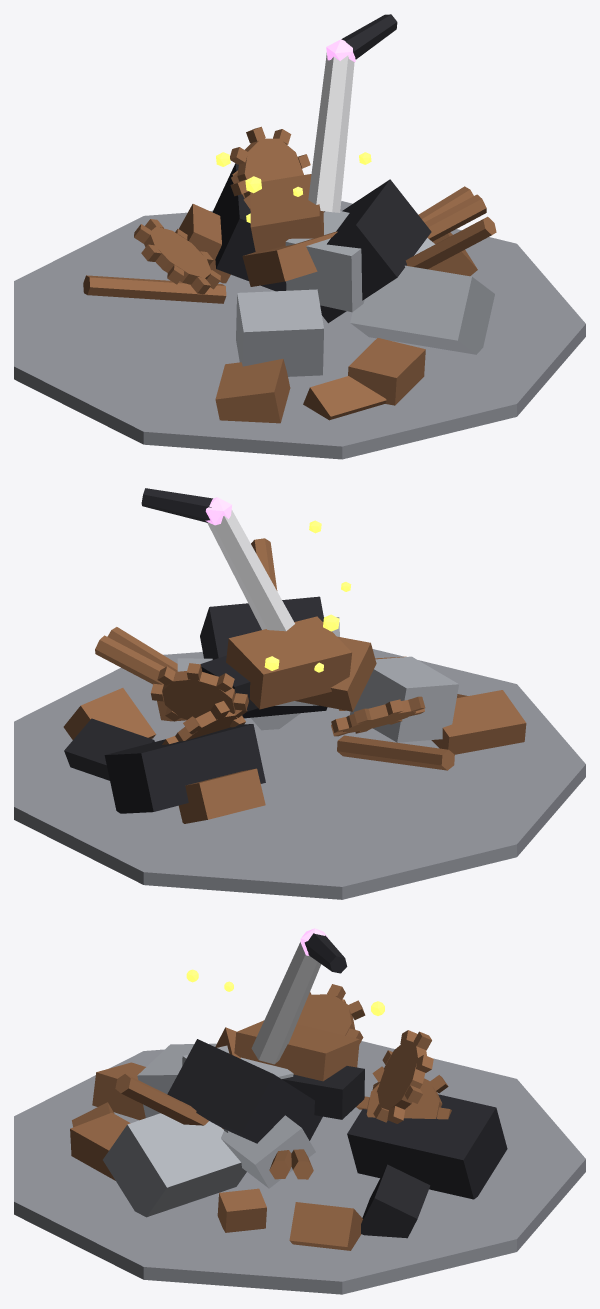
Rendered from Resource_ScrapHeap.fbx.
3 renders of one model, top to bottom at view 1: azimuth 30°, elevation 25°; view 2: azimuth 150°, elevation 25°; view 3: azimuth 270°, elevation 25°, orthographic.
Parts seen in each view (by area): view 1: Scrap_Ground, Scrap_Chunk13, Scrap_Chunk12, Scrap_Chunk16, Scrap_BotArmA, Scrap_Chunk9, Scrap_Chunk8, Scrap_Chunk11, Scrap_Chunk5, Scrap_Chunk7, Scrap_Pipe1, Scrap_Chunk3 (+9 smaller); view 2: Scrap_Ground, Scrap_Chunk7, Scrap_Chunk9, Scrap_Chunk12, Scrap_Chunk8, Scrap_BotArmA, Scrap_Chunk16, Scrap_Chunk15, Scrap_Chunk17, Scrap_Pipe1, Scrap_Chunk0, Scrap_Gear2 (+8 smaller); view 3: Scrap_Ground, Scrap_Chunk7, Scrap_Chunk13, Scrap_Chunk16, Scrap_Chunk9, Scrap_BotArmA, Scrap_Chunk17, Scrap_Chunk0, Scrap_Chunk10, Scrap_Chunk1, Scrap_Gear2, Scrap_Chunk5 (+10 smaller).
Part boxes in pixels (bbox=[...]): Scrap_Ground: bbox=[14, 201, 585, 459]; Scrap_Chunk13: bbox=[350, 265, 494, 354]; Scrap_Chunk12: bbox=[236, 289, 323, 376]; Scrap_Chunk16: bbox=[320, 179, 431, 323]; Scrap_BotArmA: bbox=[308, 53, 354, 212]; Scrap_Chunk9: bbox=[250, 174, 324, 253]; Scrap_Chunk8: bbox=[215, 359, 290, 423]; Scrap_Chunk11: bbox=[285, 211, 364, 312]; Scrap_Chunk5: bbox=[348, 338, 425, 405]; Scrap_Chunk7: bbox=[212, 163, 286, 291]; Scrap_Pipe1: bbox=[83, 275, 226, 303]; Scrap_Chunk3: bbox=[242, 231, 337, 286]; Scrap_Ground: bbox=[14, 649, 585, 899]; Scrap_Chunk7: bbox=[104, 724, 265, 813]; Scrap_Chunk9: bbox=[226, 616, 352, 709]; Scrap_Chunk12: bbox=[350, 656, 458, 742]; Scrap_Chunk8: bbox=[431, 690, 526, 754]; Scrap_BotArmA: bbox=[207, 510, 294, 631]; Scrap_Chunk16: bbox=[200, 596, 327, 718]; Scrap_Chunk15: bbox=[179, 768, 265, 823]; Scrap_Chunk17: bbox=[64, 718, 154, 780]; Scrap_Pipe1: bbox=[337, 735, 454, 770]; Scrap_Chunk0: bbox=[63, 688, 155, 739]; Scrap_Gear2: bbox=[162, 671, 235, 719]; Scrap_Ground: bbox=[14, 1041, 585, 1294]; Scrap_Chunk7: bbox=[347, 1094, 507, 1199]; Scrap_Chunk13: bbox=[103, 1113, 246, 1217]; Scrap_Chunk16: bbox=[167, 1039, 322, 1143]; Scrap_Chunk9: bbox=[234, 1020, 359, 1081]; Scrap_BotArmA: bbox=[251, 942, 321, 1064]; Scrap_Chunk17: bbox=[361, 1164, 430, 1238]; Scrap_Chunk0: bbox=[289, 1202, 362, 1250]; Scrap_Chunk10: bbox=[221, 1115, 315, 1188]; Scrap_Chunk1: bbox=[282, 1066, 364, 1119]; Scrap_Gear2: bbox=[377, 1040, 426, 1110]; Scrap_Chunk5: bbox=[70, 1112, 130, 1180].
Size of the model in its own units: 1.22 by 0.6641 by 1.2.
